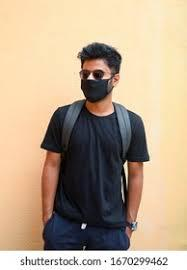mask: (77, 77, 114, 106)
sunglasses: (71, 68, 121, 81)
